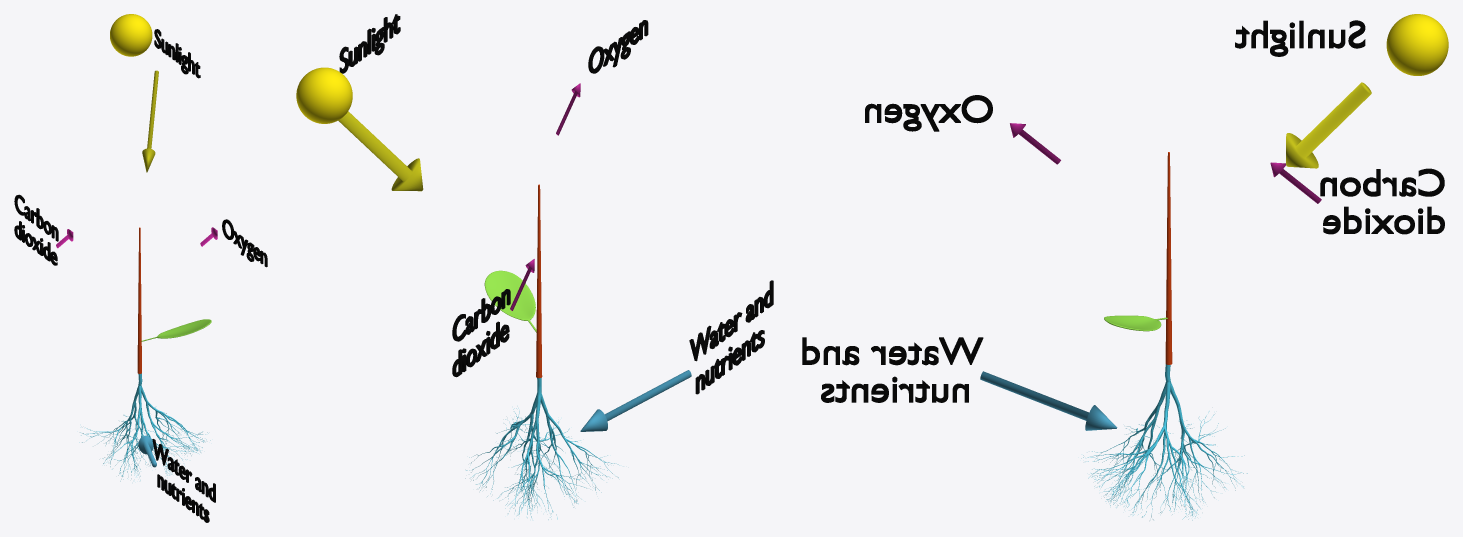
The model's file is Photosynthesis .gltf.
3 renders of one model, left to right at view 1: azimuth 30°, elevation 25°; view 2: azimuth 150°, elevation 25°; view 3: azimuth 270°, elevation 25°, orthographic. The views are drawn at different scales.
Visible parts, largest first — view 1: tree, Text.001, Sphere, Text.002, Text, Text.003, Cylinder.034, Circle, Cylinder, Cylinder.002; view 2: tree, Text.001, Sphere, Text.002, Cylinder.034, Circle, Text, Cylinder.002, Text.003, Cylinder; view 3: tree, Text.001, Text.002, Sphere, Cylinder.034, Text, Text.003, Cylinder.002, Cylinder, Circle.
Part boxes in pixels (x1,y1,x2,y2): tree: (79,373,210,481); Text.001: (152,439,215,522); Sphere: (110,14,152,56); Text.002: (14,194,58,265); Text: (154,29,200,78); Text.003: (222,219,267,267); Cylinder.034: (142,70,158,172); Circle: (141,319,211,341); Cylinder: (137,227,141,373); Cylinder.002: (138,435,156,467); tree: (465,378,619,519); Text.001: (689,280,773,394); Sphere: (296,67,352,123); Text.002: (452,289,510,377); Cylinder.034: (338,111,423,191); Circle: (484,270,536,332); Text: (339,14,400,73); Cylinder.002: (580,370,691,431); Text.003: (588,20,648,73); Cylinder: (536,184,542,378); tree: (1081,364,1247,520); Text.001: (802,337,983,402); Text.002: (1320,168,1444,234); Sphere: (1386,14,1448,75); Cylinder.034: (1286,82,1371,168); Text: (1235,20,1365,56); Text.003: (865,95,992,131); Cylinder.002: (980,371,1117,430); Cylinder: (1165,152,1172,364); Circle: (1104,315,1167,331).
Bounding box in the file's own units: 20.77 × 50.73 × 54.25.
